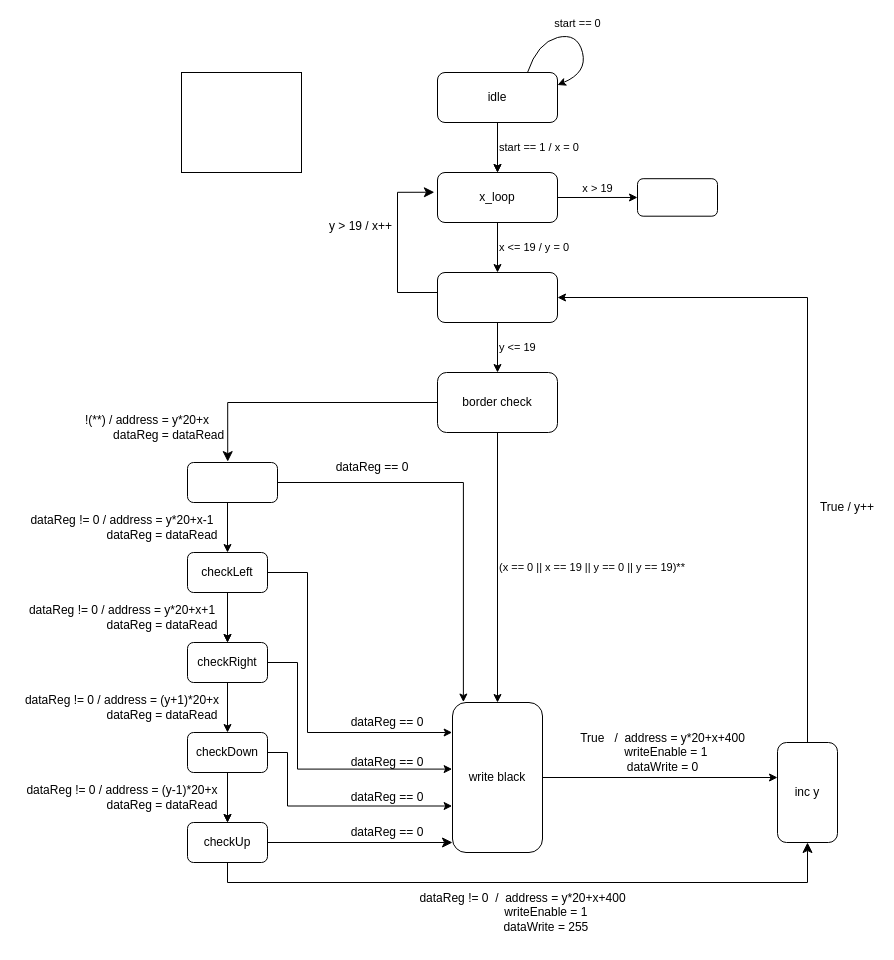
Some shapes in this 894 by 960 pixel diagram are drawn without their labels. The centre of each missing label's shape, as x and y in pixels:
"black check" goes at point 232,482.
"Default values: writeEnable = 0 address = 0 dataWrite = 0 done = 0" goes at point 241,122.
"done" goes at point 677,197.
"y_loop" goes at point 497,297.
